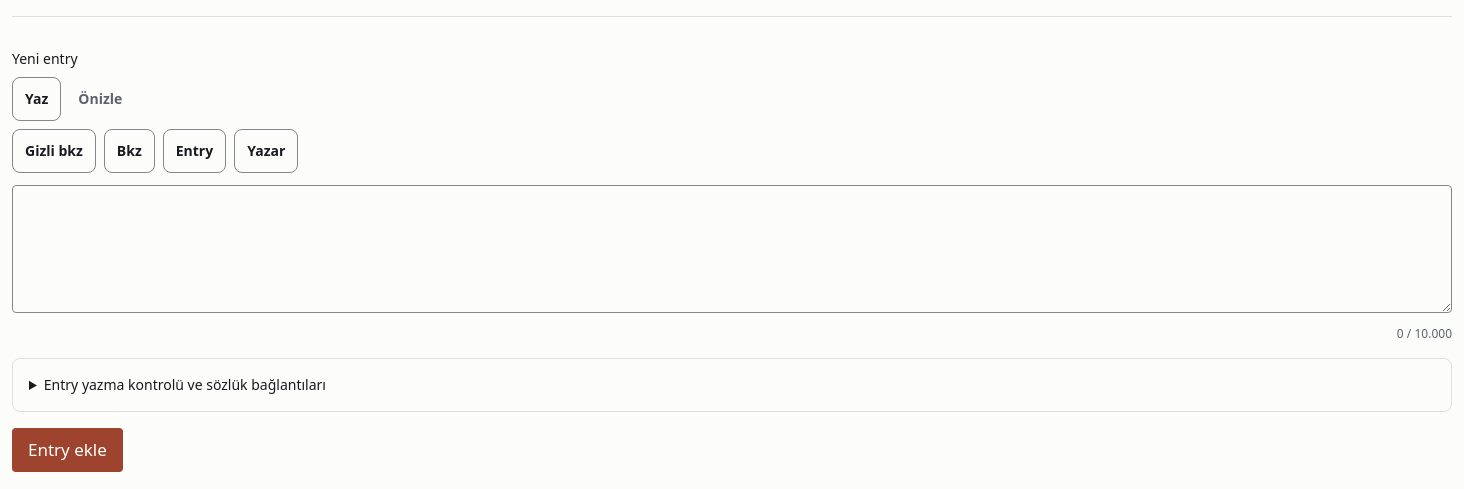
Test case: composer bkz araç çubuğu · seçim yokken › imleç hiç oynatılmamışsa şablonu metnin başına ekler
Click the button with aria-label "Yazar referansı ekle: et işareti kullanıcı adı". click: (266, 151)
box: [234,129,298,173]
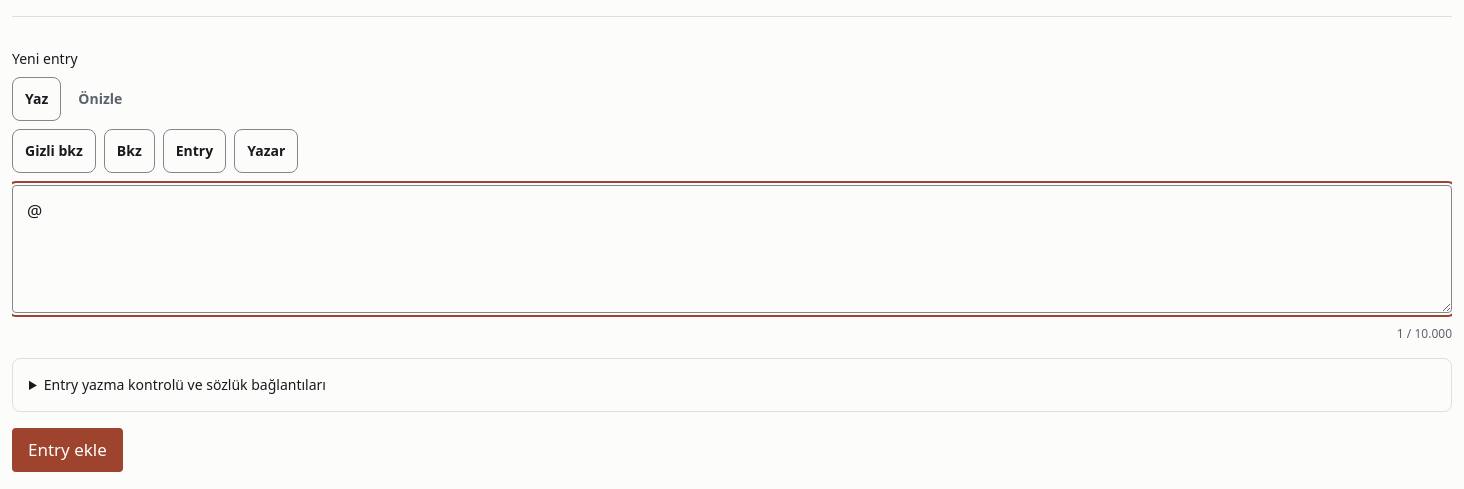
Result: the text box labelled "Yeni entry" holds "@" at [12,185,1452,313]
